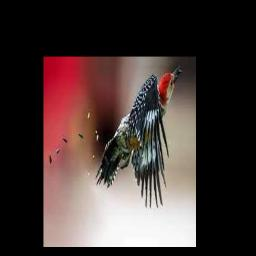Woodpecker: (96, 65, 183, 208)
